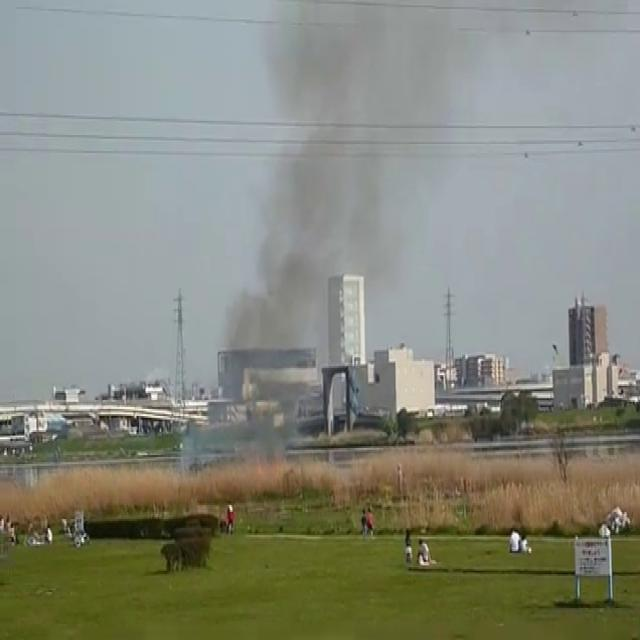Smoke: (196, 2, 421, 487)
